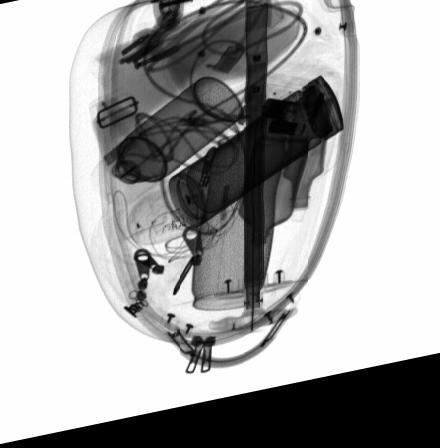Sprayer: (89, 85, 242, 211)
